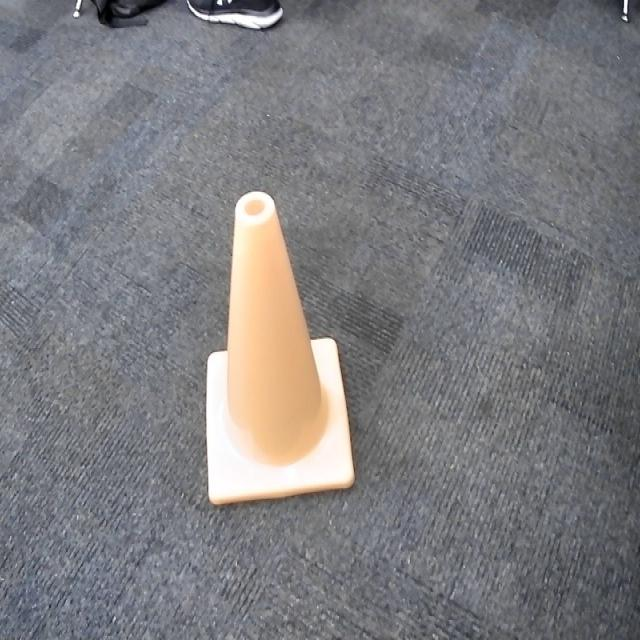cone: (206, 191, 356, 509)
